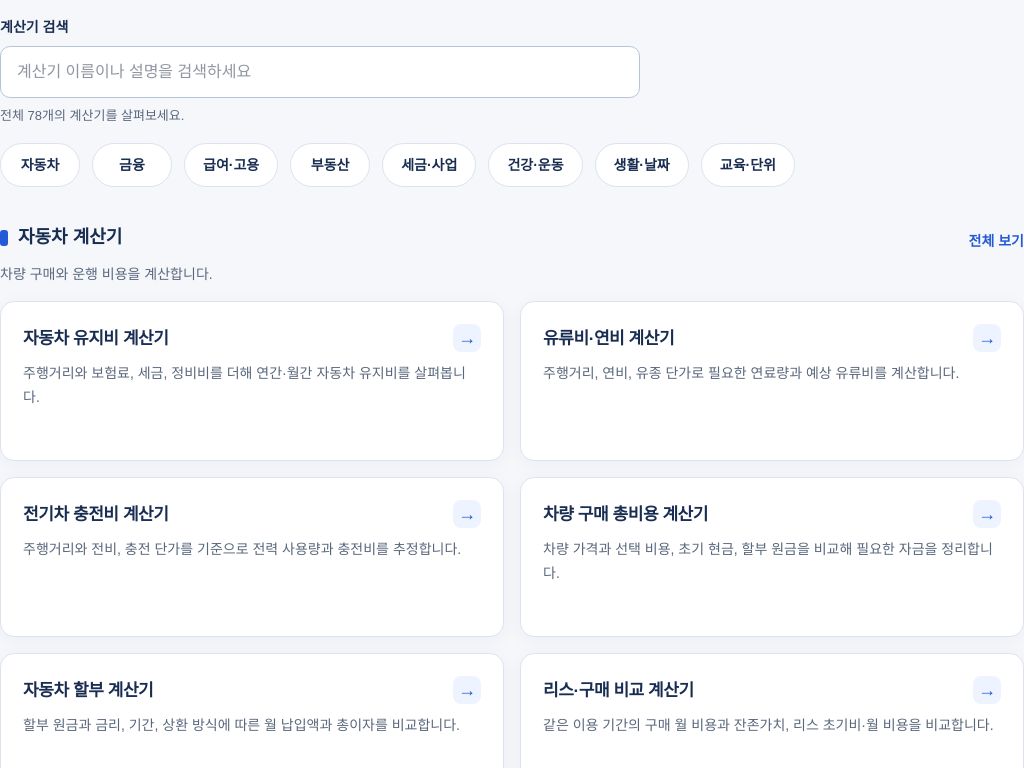
Test case: uses category pills for in-page navigation while retaining hub links as 전체 보기
In the search field labelled "계산기 검색": (320, 72) [0,46,640,98], type "찾을 수 없는 계산기"
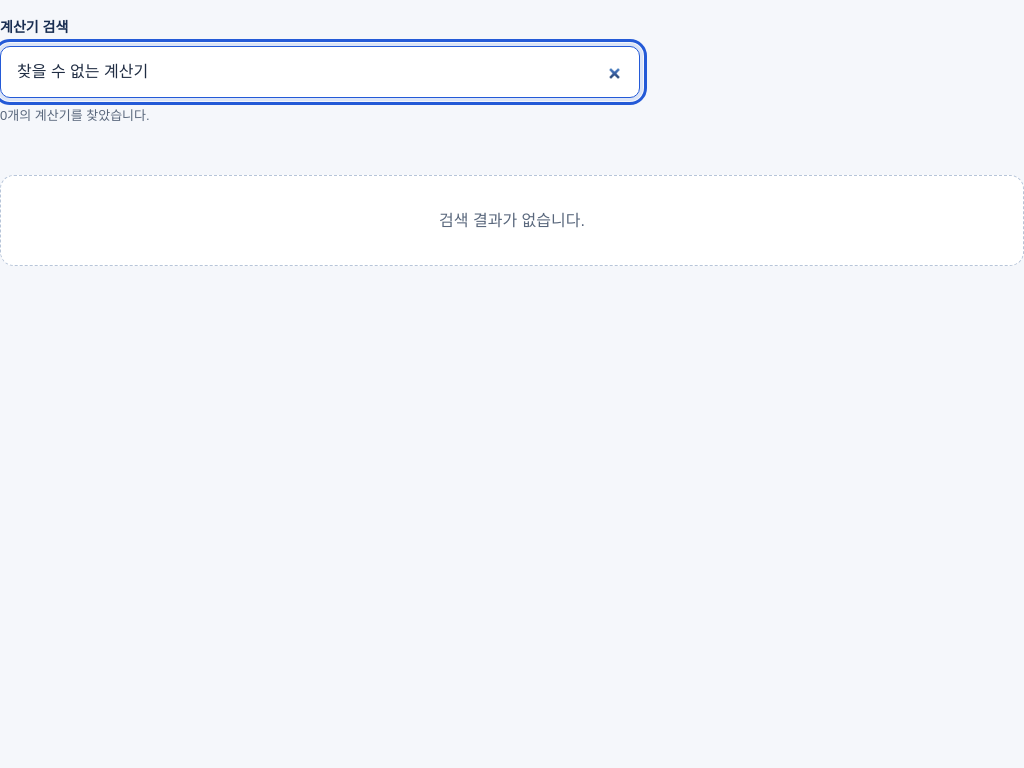
Check: the text "검색 결과가 없습니다." is shown, box [0,175,1023,266]
Check: the link "유류비·연비 계산기" is gone
